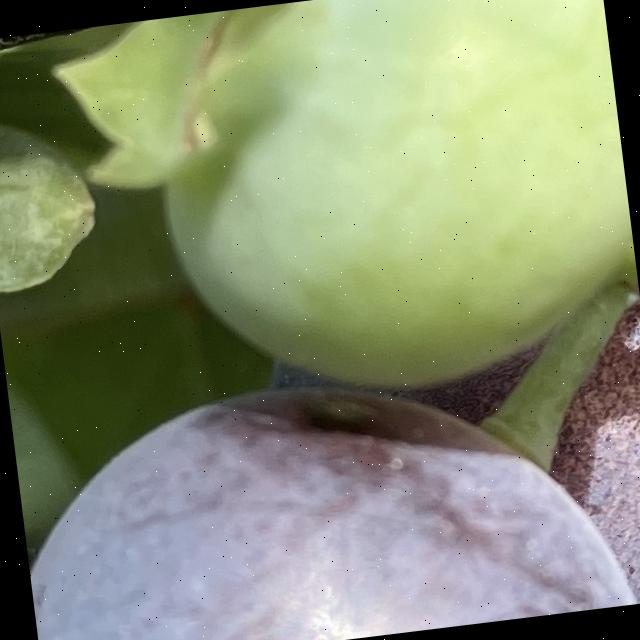Blueberries: (37, 0, 640, 426), (9, 338, 640, 640)
